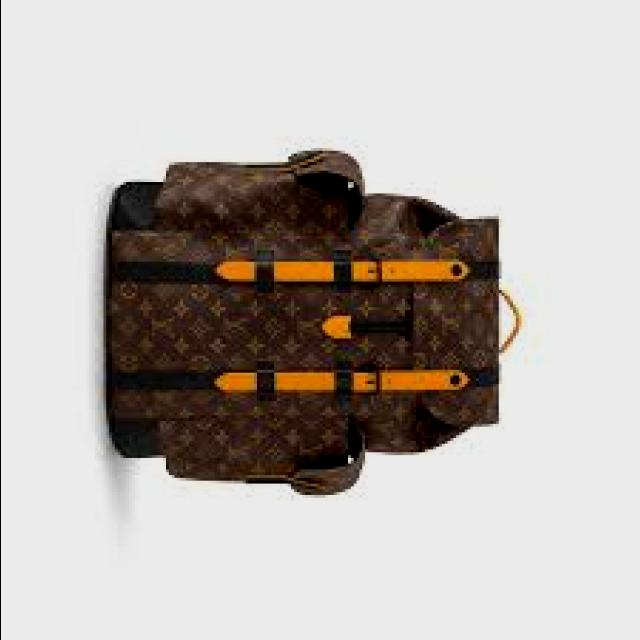backpack: (107, 149, 525, 496)
